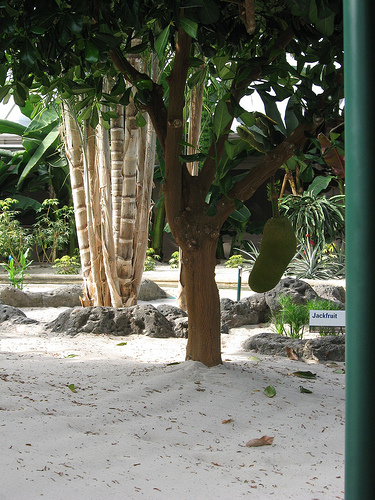jackfruit: (247, 213, 297, 293)
